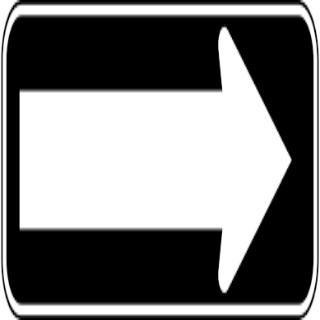sign_oneway_right: (1, 1, 309, 319)
